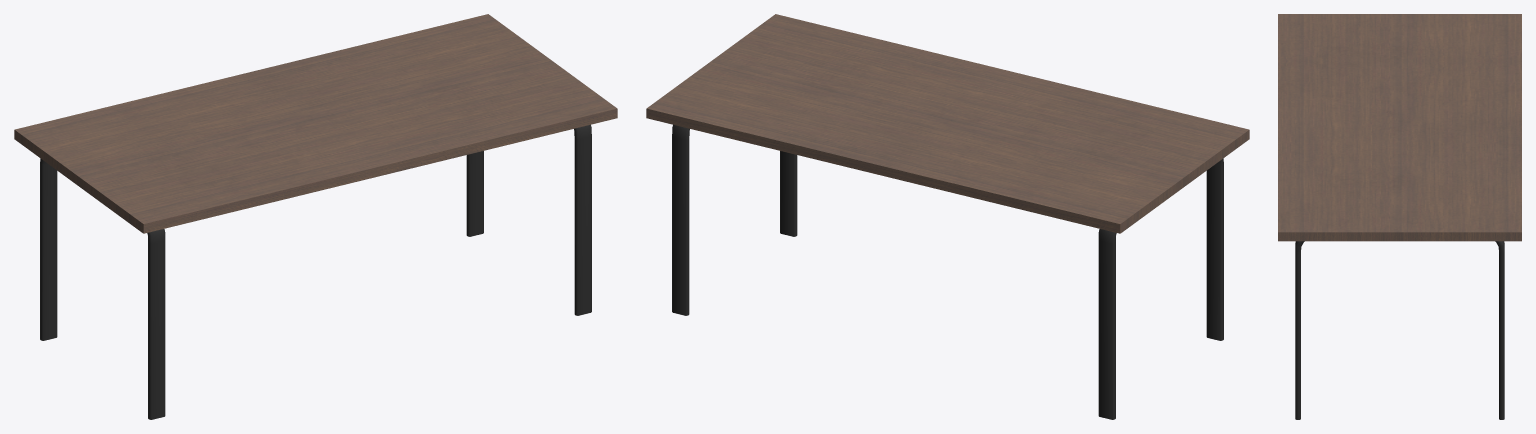
File: MeetingTable.fbx
3 views of the same model, side by side, from view 1: azimuth 30°, elevation 25°; view 2: azimuth 150°, elevation 25°; view 3: azimuth 270°, elevation 25° (orthographic). The views are drawn at different scales.
Visible parts, largest first — view 1: MeetingTable; view 2: MeetingTable; view 3: MeetingTable.
Boxes of the visible parts, <box> form: MeetingTable: <box>14,14,617,419</box>; MeetingTable: <box>646,14,1249,419</box>; MeetingTable: <box>1278,14,1521,419</box>.
Size of the model in its own units: 180 by 75 by 85.
